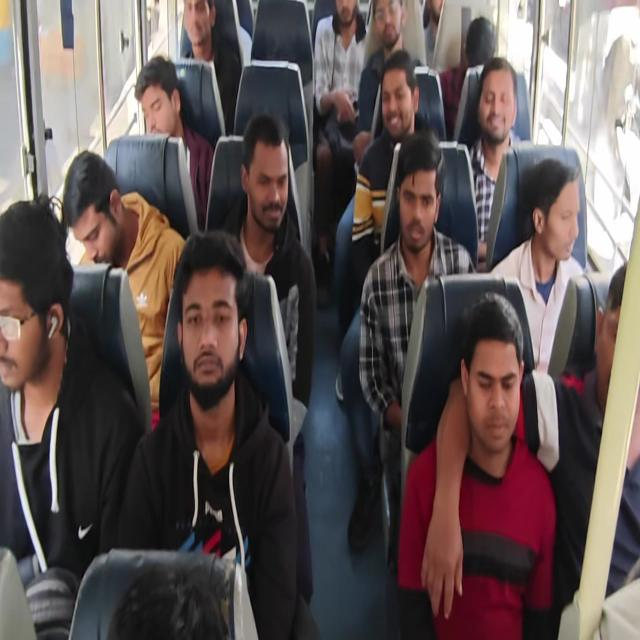person: (0, 188, 86, 388), (172, 247, 266, 391), (52, 158, 134, 262), (235, 122, 298, 223), (596, 289, 640, 425), (466, 343, 520, 453), (396, 162, 448, 251), (126, 66, 190, 134), (524, 177, 578, 254), (476, 65, 512, 143), (169, 0, 213, 57), (378, 71, 416, 132), (468, 15, 499, 73), (373, 0, 401, 44), (328, 0, 361, 32)
